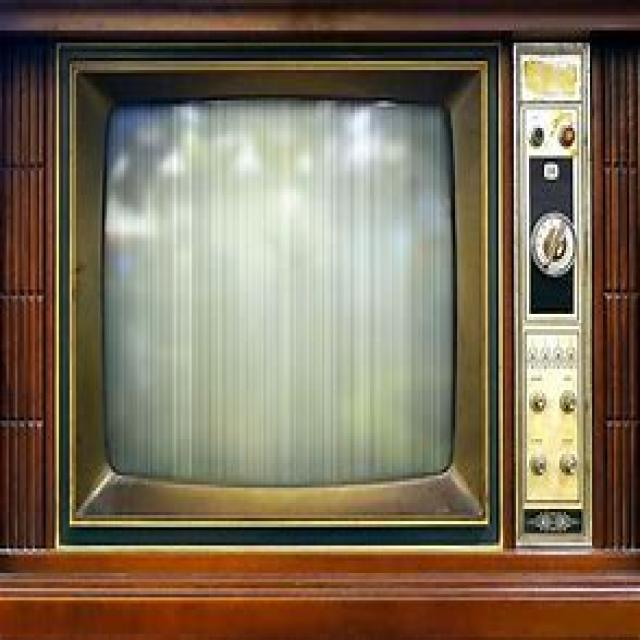tv: (52, 36, 505, 548)
